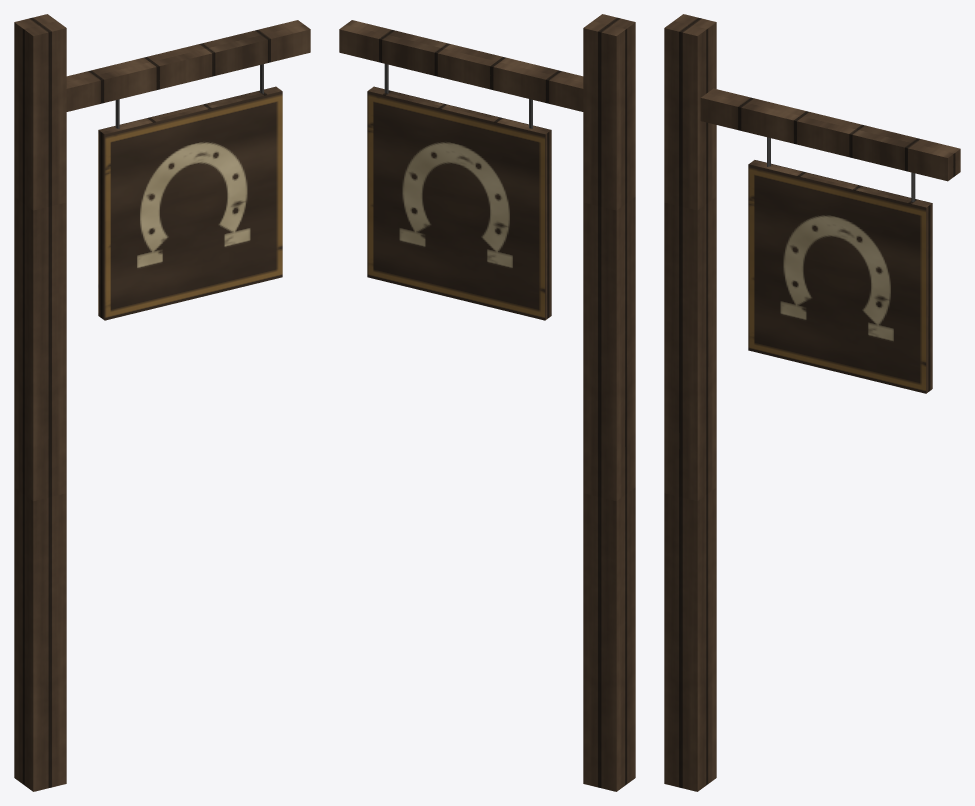
The model's file is Sign_Service_ecurie_LOD2.gltf.
3 views of the same model, side by side, from view 1: azimuth 30°, elevation 25°; view 2: azimuth 150°, elevation 25°; view 3: azimuth 330°, elevation 25° (orthographic).
Visible parts, largest first — view 1: Sign_Service_ecurie_LOD2; view 2: Sign_Service_ecurie_LOD2; view 3: Sign_Service_ecurie_LOD2.
Part boxes in pixels (x1,y1,x2,y2): Sign_Service_ecurie_LOD2: (14,14,310,791); Sign_Service_ecurie_LOD2: (339,14,635,791); Sign_Service_ecurie_LOD2: (664,14,960,791).
Bounding box in the file's own units: 1.01 × 2.6 × 0.12.
3 materials, 3 textured.
